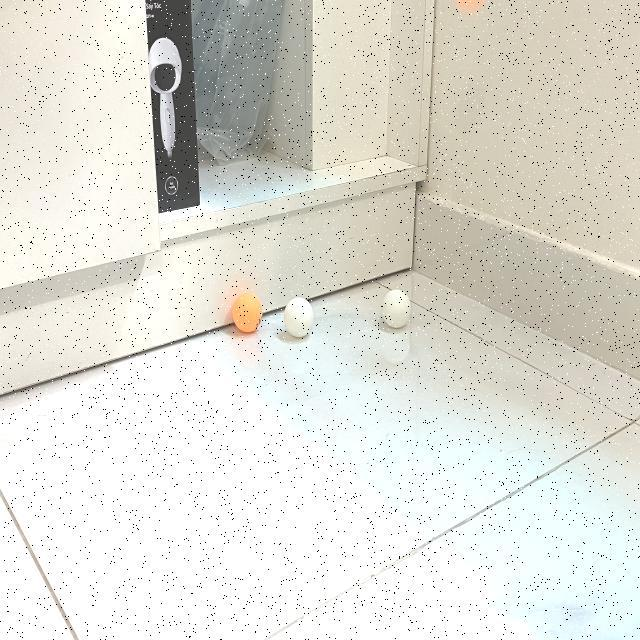ping-pong-ball: (284, 296, 314, 338), (232, 292, 264, 330), (382, 288, 412, 328)
